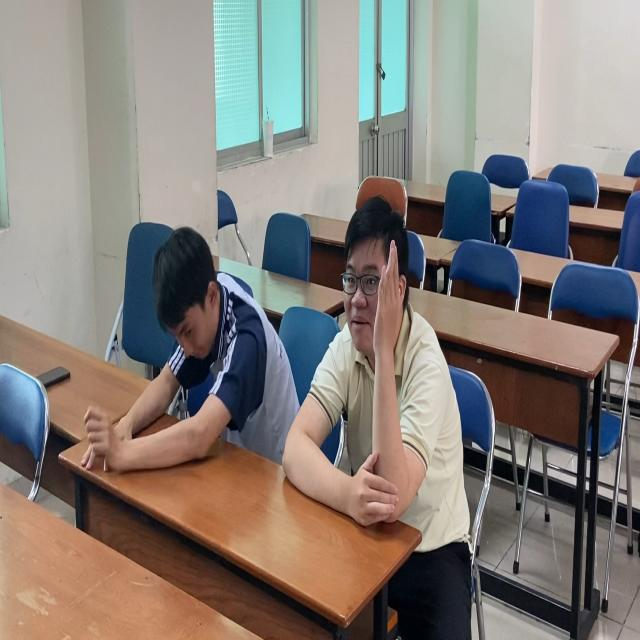raise_hand: (293, 202, 474, 542)
